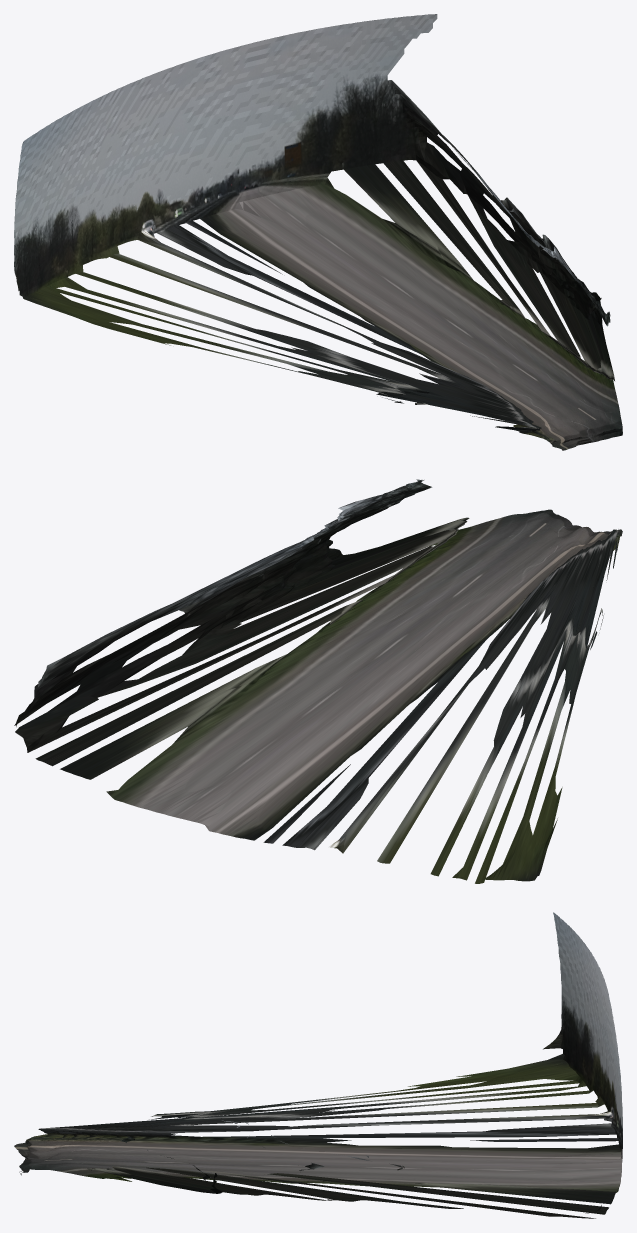
The picture shows the model from 3 angles, top to bottom: view 1: azimuth 30°, elevation 25°; view 2: azimuth 150°, elevation 25°; view 3: azimuth 270°, elevation 25°; orthographic projection. The views are drawn at different scales.
Visible parts, largest first — view 1: defaultobject; view 2: defaultobject; view 3: defaultobject.
Part boxes in pixels (x1,y1,x2,y2): defaultobject: (14,14,622,450); defaultobject: (14,479,622,883); defaultobject: (14,912,622,1218).
Bounding box in the file's own units: 33.16 × 12.99 × 44.71.
1 material, 1 textured.
